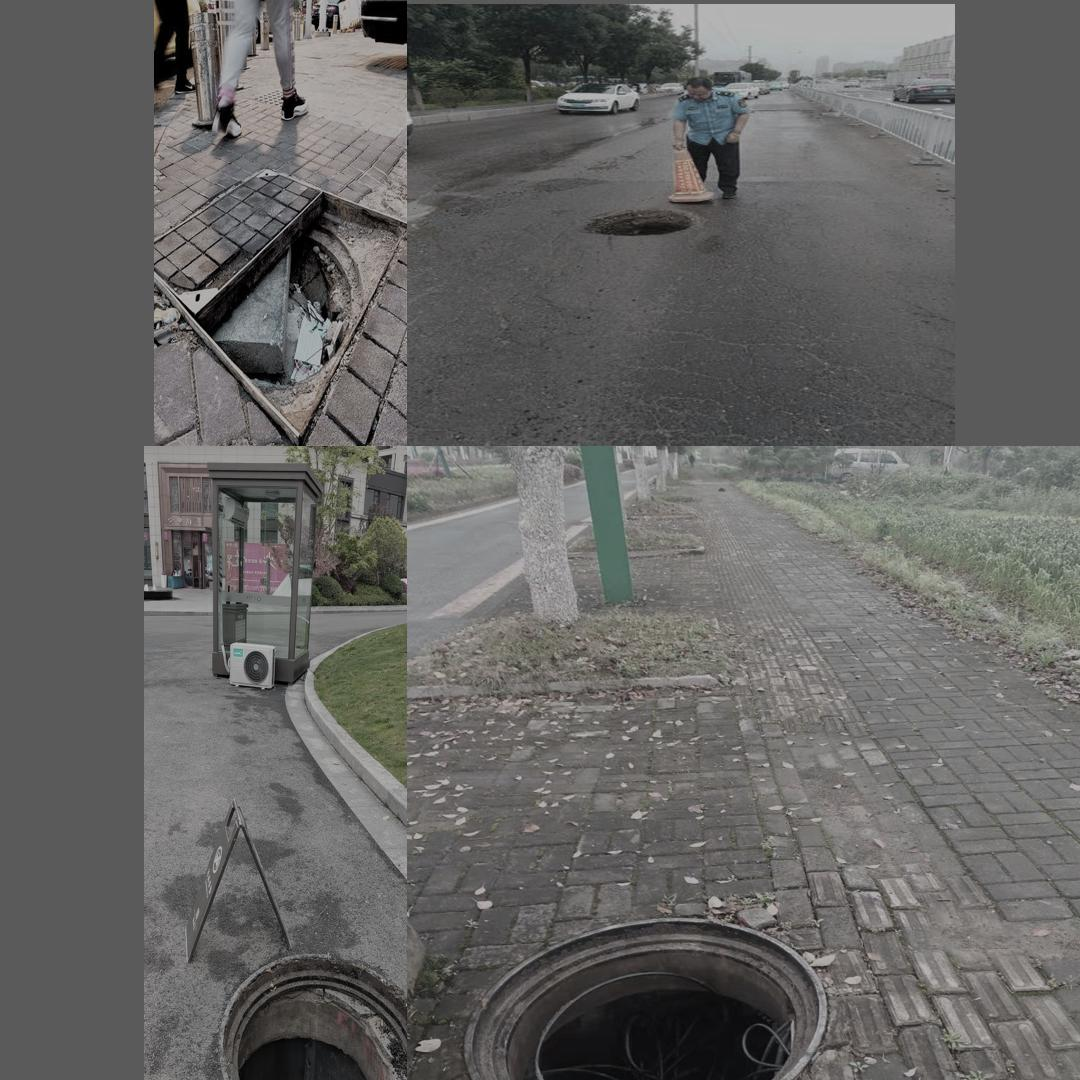lose: (158, 165, 401, 435), (459, 916, 827, 1080), (215, 949, 406, 1080), (560, 201, 711, 241)
